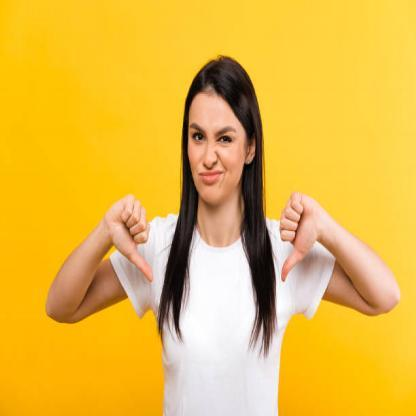thumb_down: (102, 190, 158, 288), (276, 188, 320, 285)
